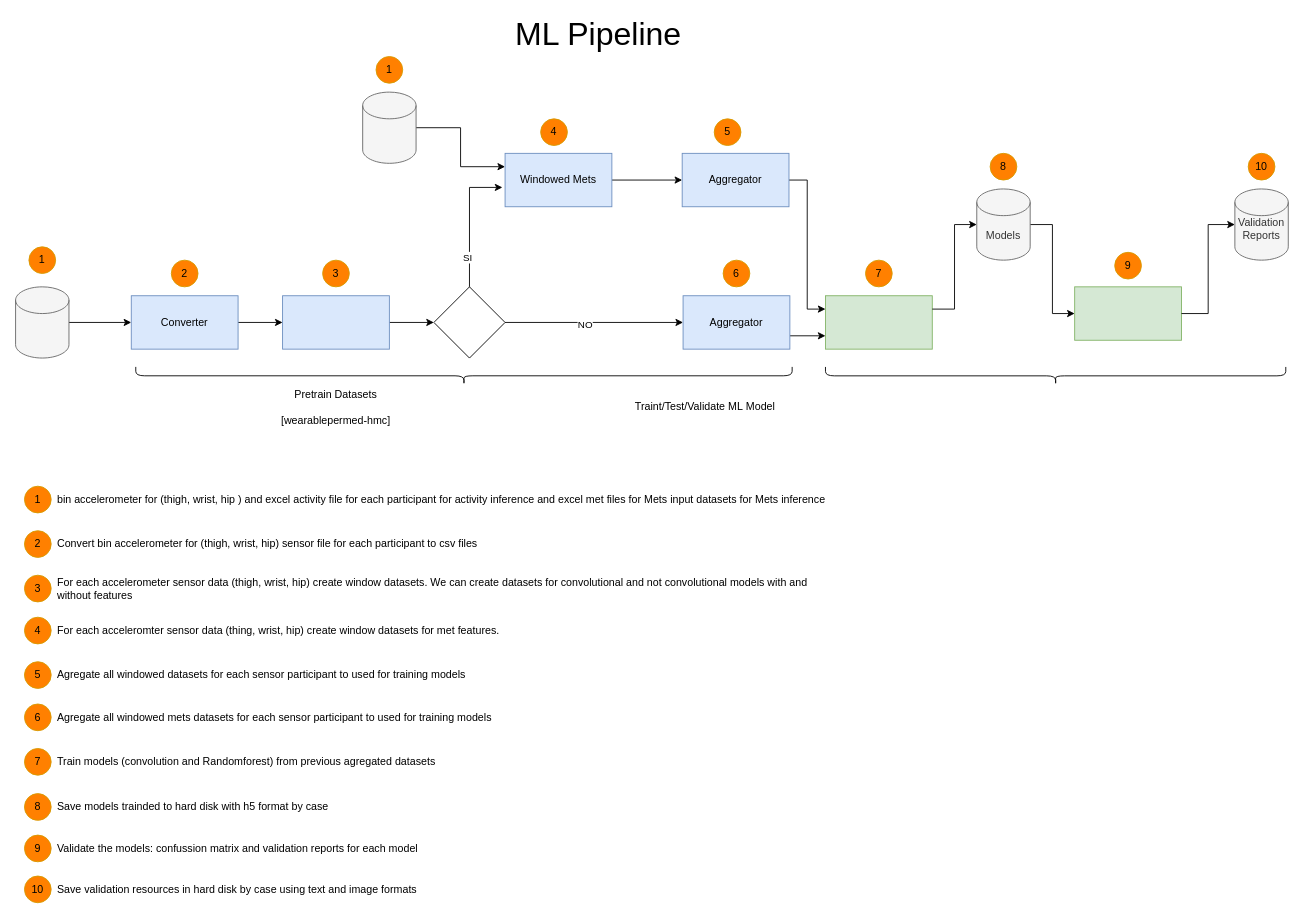
Image size: 1304x918. Some labels were removed from this diagram. The centre of each missing label's shape, as x and y in pixels:
"Activity Input Datasets" belongs at point (42, 322).
"Mets" belongs at point (469, 322).
"Mets Input Datasets" belongs at point (389, 127).
"Trainer/Test" belongs at point (878, 322).
"Validate" belongs at point (1127, 313).
"Windowed" belongs at point (335, 322).
